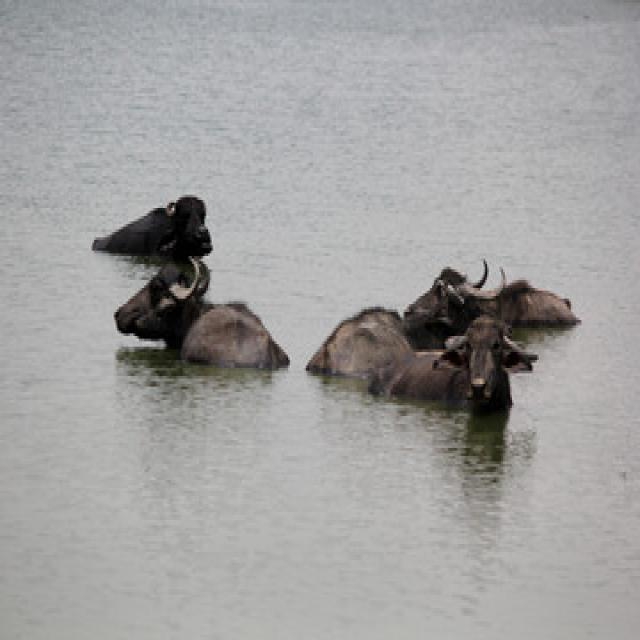Buffalo: (116, 255, 288, 378), (372, 308, 538, 412)
